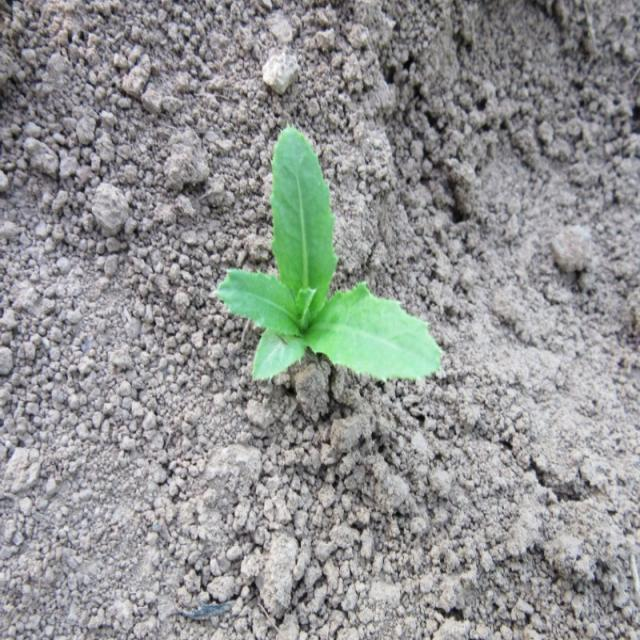cs: (213, 122, 446, 386)
